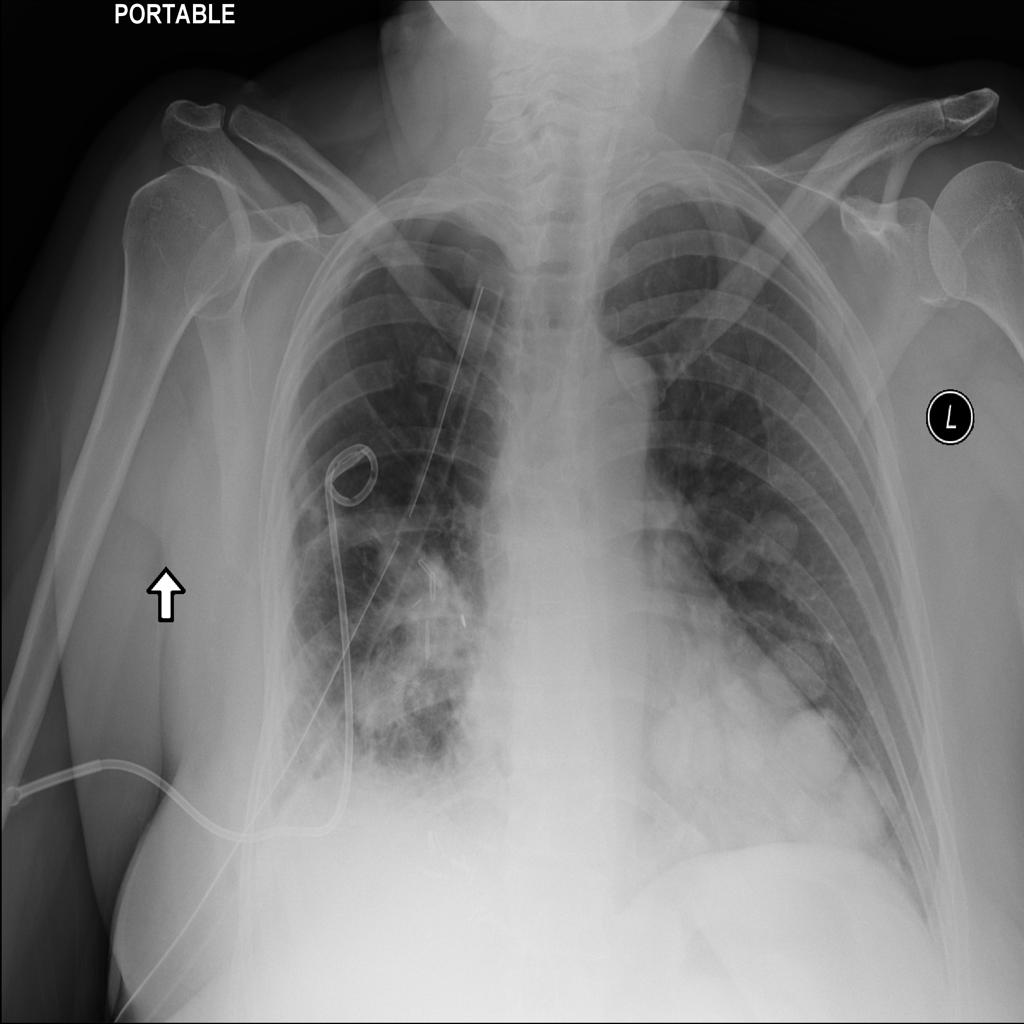nodule: (716, 493, 811, 589), (649, 702, 719, 794), (828, 765, 902, 851), (777, 706, 854, 788), (759, 628, 834, 710), (718, 718, 781, 789)
